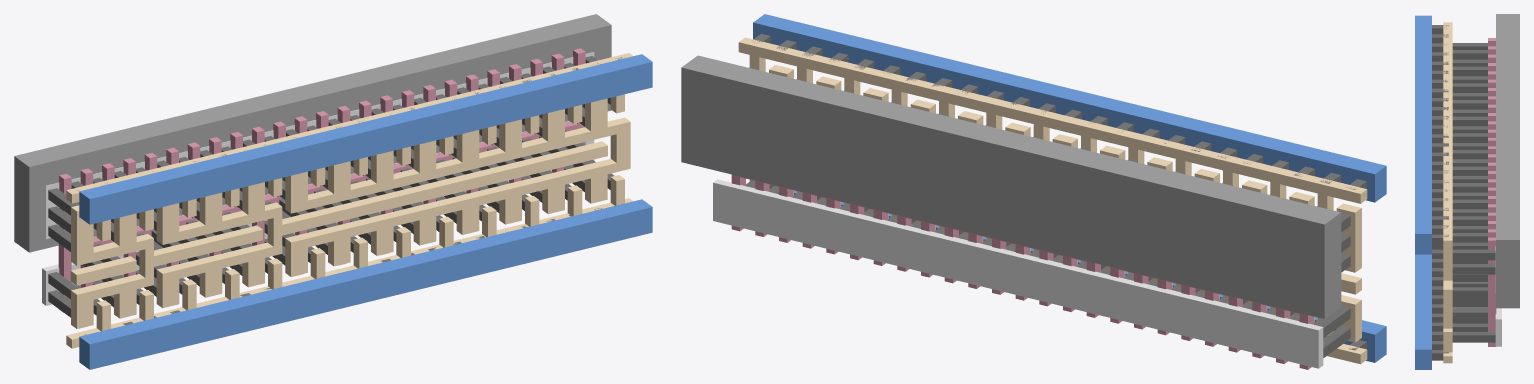
File: sky130_fd_sc_hd__bufinv_16.gds.gltf
The picture shows the model from 3 angles, left to right: view 1: azimuth 30°, elevation 25°; view 2: azimuth 150°, elevation 25°; view 3: azimuth 270°, elevation 25°; orthographic projection. The views are drawn at different scales.
Parts seen in each view (by area): view 1: sky130_fd_sc_hd__bufinv_16_li1, sky130_fd_sc_hd__bufinv_16_met1, sky130_fd_sc_hd__bufinv_16_nwell, sky130_fd_sc_hd__bufinv_16_licon, sky130_fd_sc_hd__bufinv_16_poly, sky130_fd_sc_hd__bufinv_16_diff; view 2: sky130_fd_sc_hd__bufinv_16_nwell, sky130_fd_sc_hd__bufinv_16_diff, sky130_fd_sc_hd__bufinv_16_li1, sky130_fd_sc_hd__bufinv_16_met1, sky130_fd_sc_hd__bufinv_16_poly, sky130_fd_sc_hd__bufinv_16_licon, sky130_fd_sc_hd__bufinv_16_mcon; view 3: sky130_fd_sc_hd__bufinv_16_licon, sky130_fd_sc_hd__bufinv_16_nwell, sky130_fd_sc_hd__bufinv_16_met1, sky130_fd_sc_hd__bufinv_16_mcon, sky130_fd_sc_hd__bufinv_16_li1, sky130_fd_sc_hd__bufinv_16_poly, sky130_fd_sc_hd__bufinv_16_diff.
Part boxes in pixels (box(x1,y1,x2,y2)): sky130_fd_sc_hd__bufinv_16_li1: box(66, 53, 633, 348); sky130_fd_sc_hd__bufinv_16_met1: box(79, 54, 652, 369); sky130_fd_sc_hd__bufinv_16_nwell: box(14, 14, 611, 252); sky130_fd_sc_hd__bufinv_16_licon: box(48, 56, 614, 317); sky130_fd_sc_hd__bufinv_16_poly: box(58, 48, 585, 312); sky130_fd_sc_hd__bufinv_16_diff: box(42, 52, 594, 305); sky130_fd_sc_hd__bufinv_16_nwell: box(681, 55, 1341, 318); sky130_fd_sc_hd__bufinv_16_diff: box(713, 179, 1323, 368); sky130_fd_sc_hd__bufinv_16_li1: box(738, 37, 1367, 364); sky130_fd_sc_hd__bufinv_16_met1: box(753, 14, 1386, 362); sky130_fd_sc_hd__bufinv_16_poly: box(731, 174, 1313, 369); sky130_fd_sc_hd__bufinv_16_licon: box(746, 67, 1350, 357); sky130_fd_sc_hd__bufinv_16_mcon: box(752, 33, 1366, 350); sky130_fd_sc_hd__bufinv_16_licon: box(1452, 43, 1495, 342); sky130_fd_sc_hd__bufinv_16_nwell: box(1496, 14, 1519, 308); sky130_fd_sc_hd__bufinv_16_met1: box(1415, 15, 1431, 369); sky130_fd_sc_hd__bufinv_16_mcon: box(1432, 25, 1448, 360); sky130_fd_sc_hd__bufinv_16_li1: box(1443, 22, 1452, 363); sky130_fd_sc_hd__bufinv_16_poly: box(1488, 38, 1496, 346); sky130_fd_sc_hd__bufinv_16_diff: box(1495, 246, 1501, 346).
Bounding box in the file's own units: 11.42 × 3.2 × 2.24.
